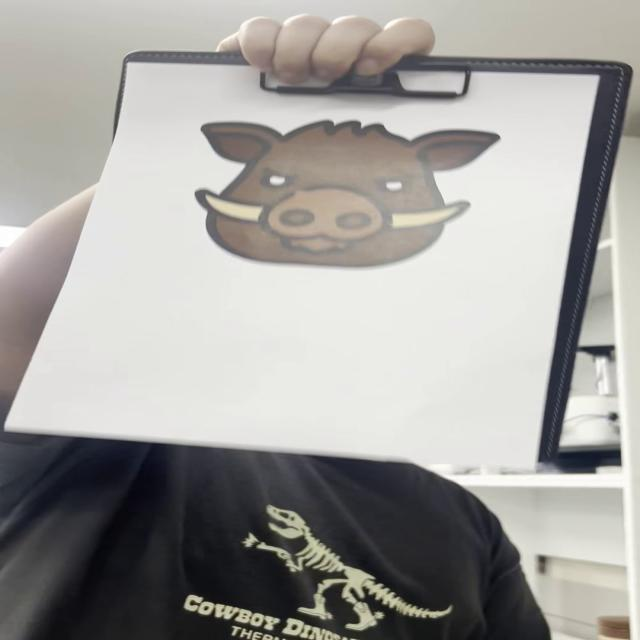animal: (194, 120, 505, 270)
